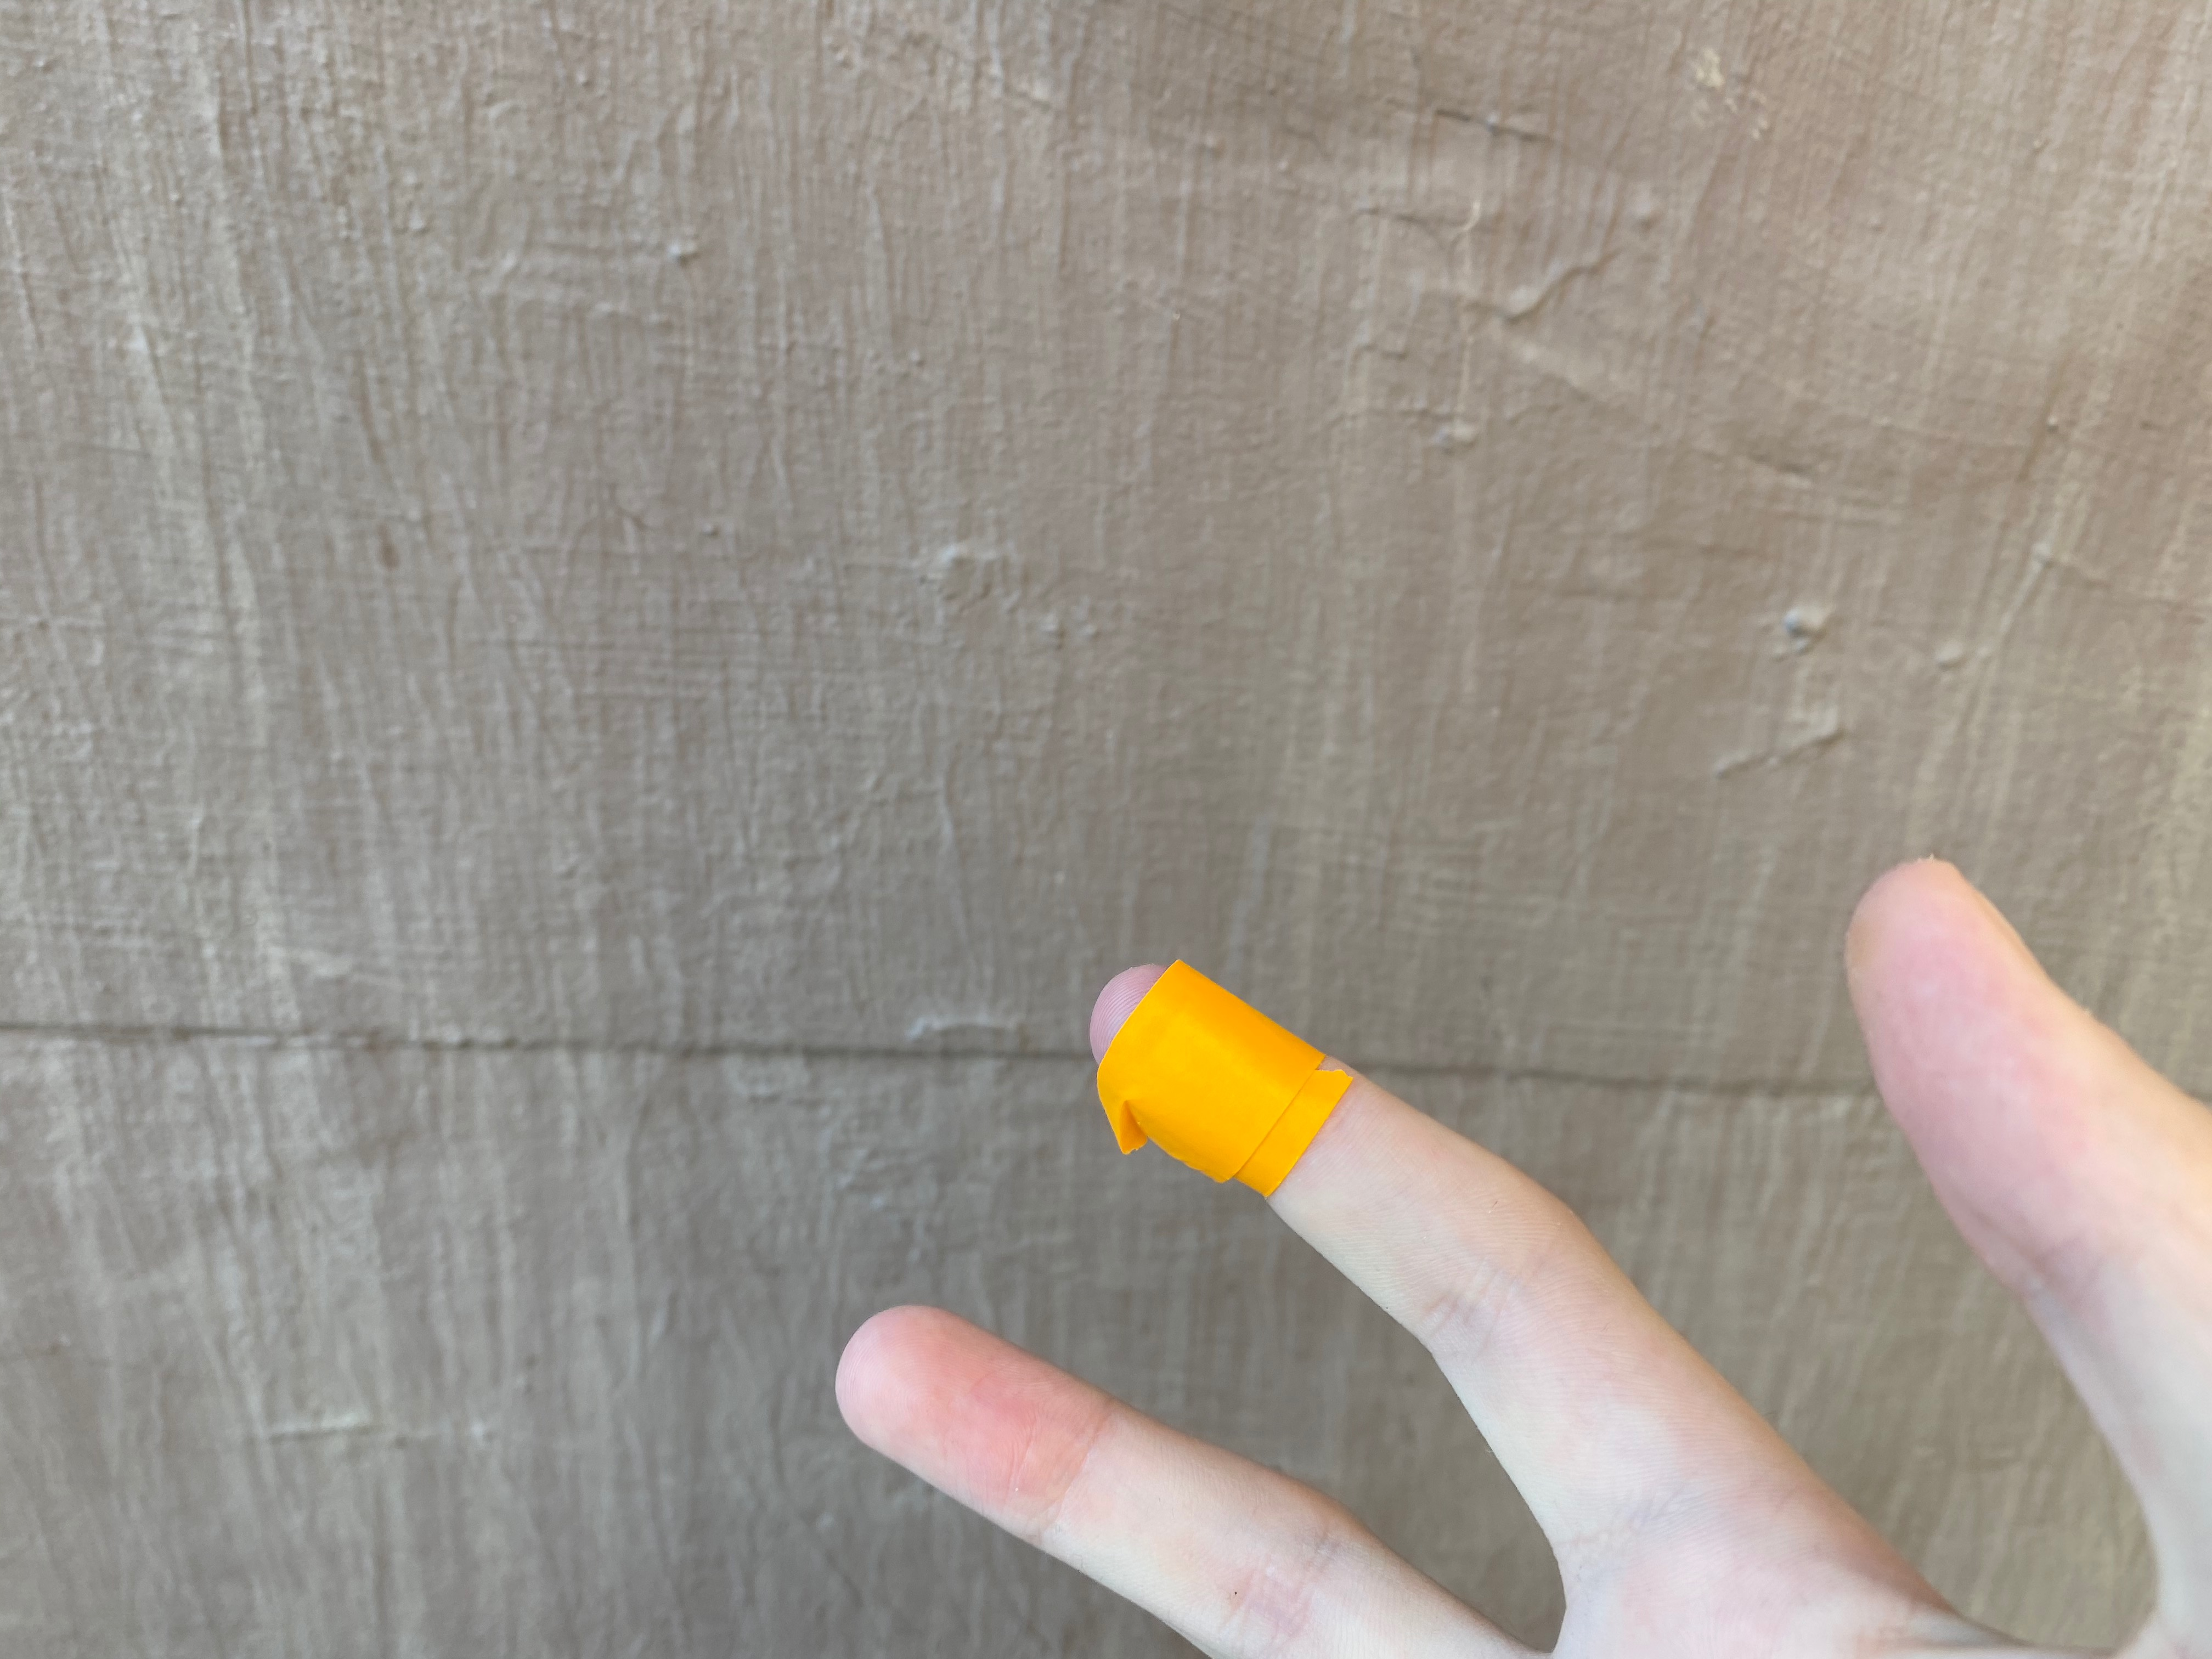fingertip: (1045, 924, 1374, 1255)
